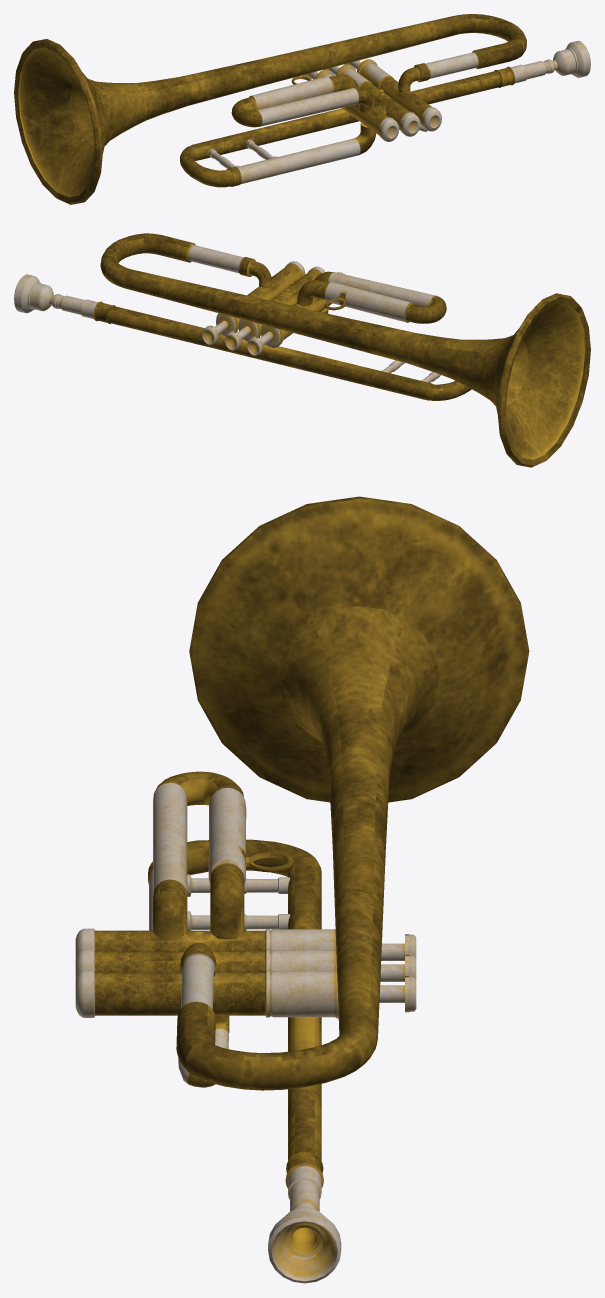
Rendered from Trumpet.fbx.
The picture shows the model from 3 angles, top to bottom: view 1: azimuth 30°, elevation 25°; view 2: azimuth 150°, elevation 25°; view 3: azimuth 270°, elevation 25°; orthographic projection. The views are drawn at different scales.
Visible parts, largest first — view 1: Trumpet; view 2: Trumpet, FirstPiston, SecondPiston, ThirdPiston; view 3: Trumpet.
Part boxes in pixels (left/top/right/bottom): Trumpet: left=14, top=14, right=590, bottom=204; Trumpet: left=14, top=233, right=590, bottom=467; FirstPiston: left=202, top=320, right=228, bottom=344; SecondPiston: left=225, top=326, right=250, bottom=350; ThirdPiston: left=247, top=331, right=273, bottom=355; Trumpet: left=75, top=496, right=529, bottom=1283.
Size of the model in its own units: 200 by 57.27 by 76.43.
1 material, 1 textured.
